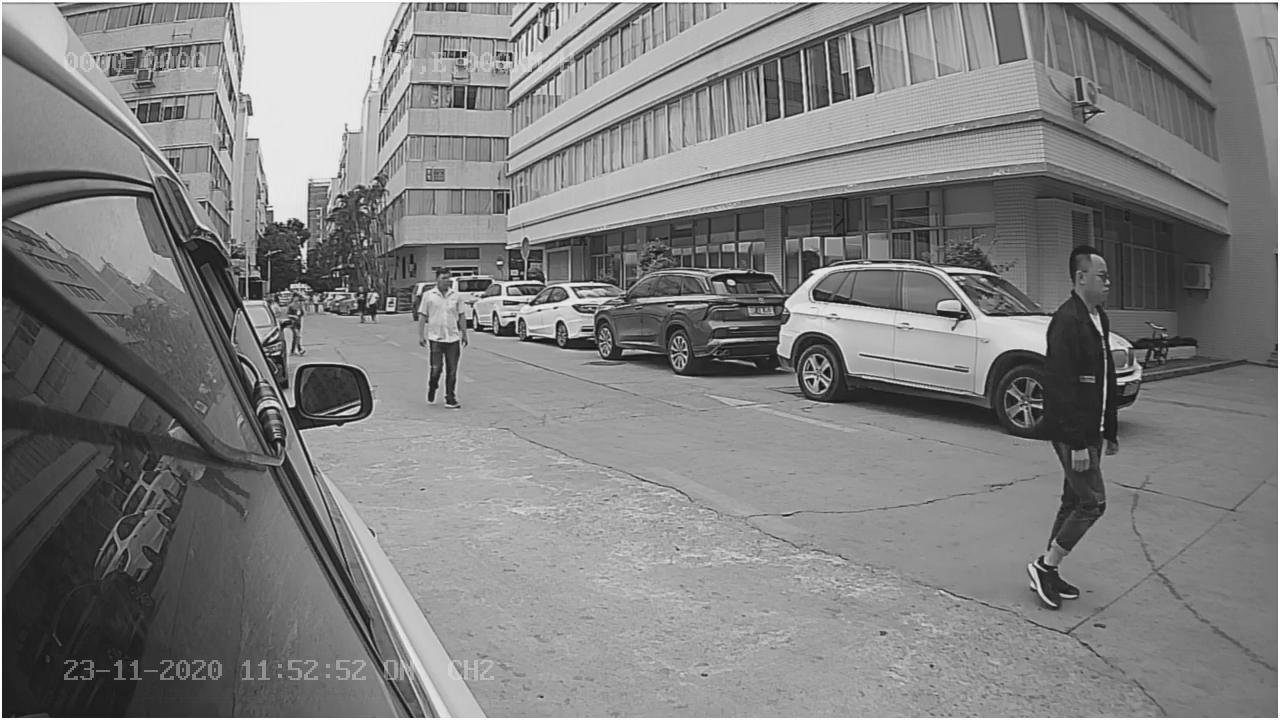person: (1024, 237, 1127, 582)
